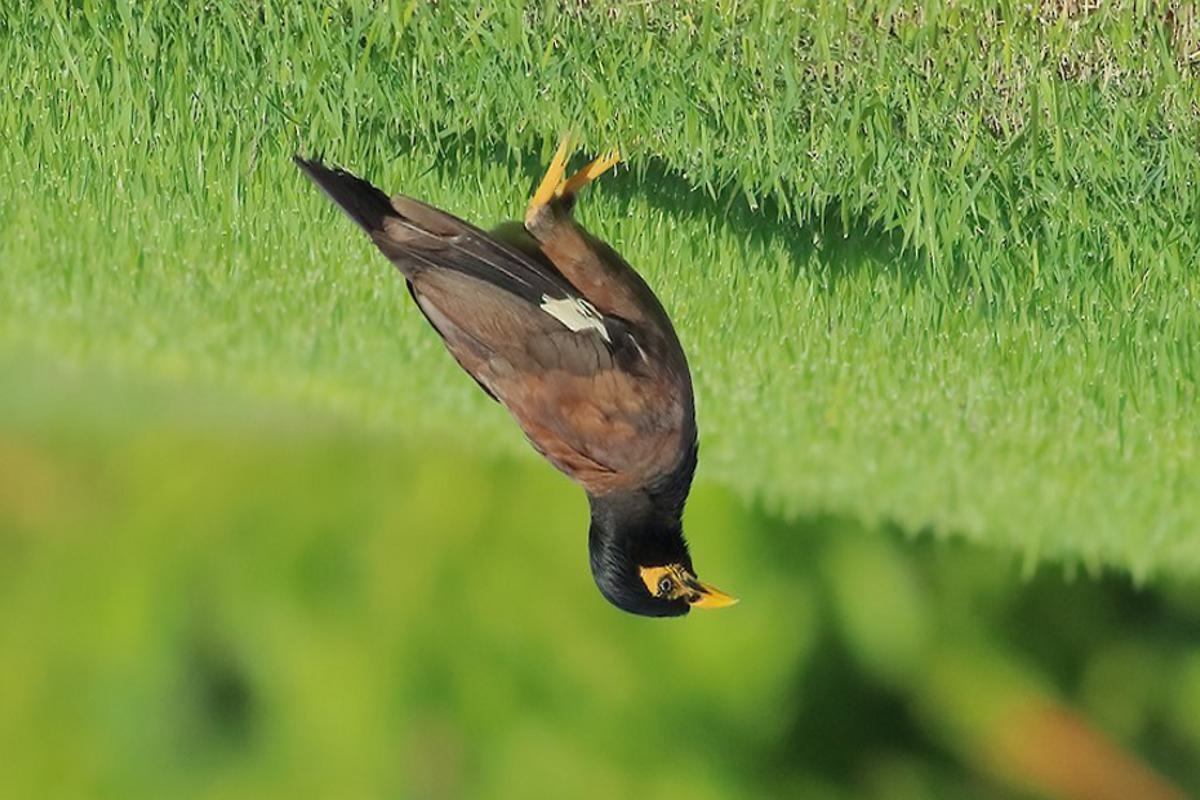myna: (325, 130, 776, 634)
